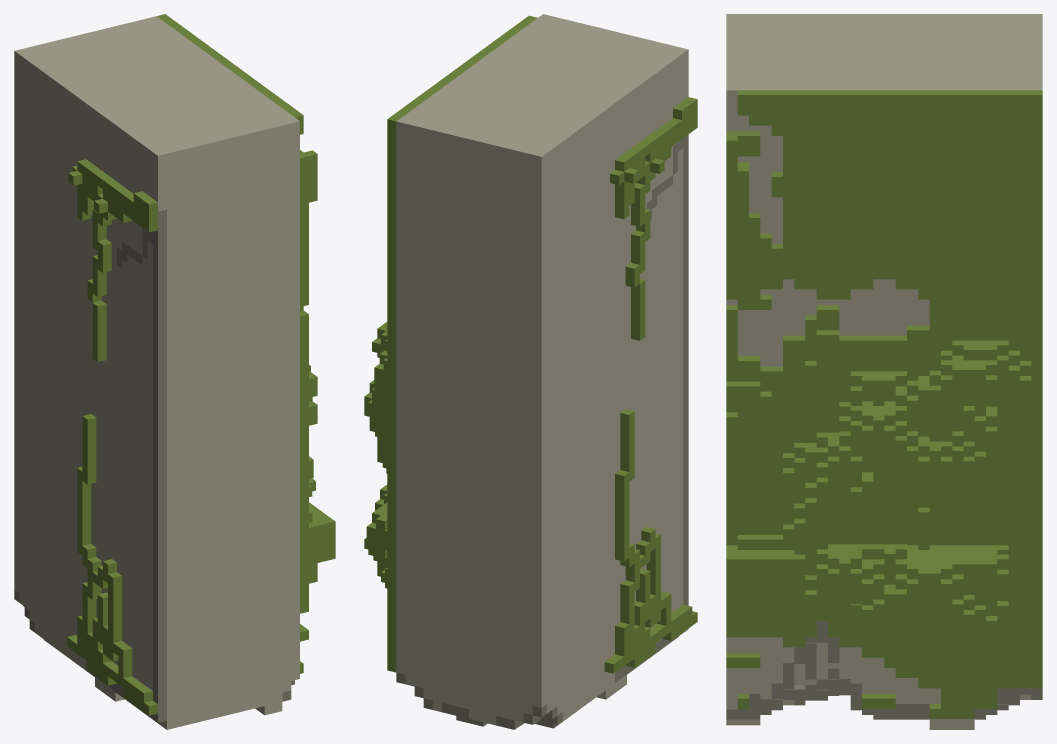
The model's file is forest1.3-12.obj.
3 renders of one model, left to right at view 1: azimuth 30°, elevation 25°; view 2: azimuth 150°, elevation 25°; view 3: azimuth 270°, elevation 25°, orthographic. The views are drawn at different scales.
Size of the model in its own units: 2.5 by 6.3 by 2.8.
1 material, 1 textured.
